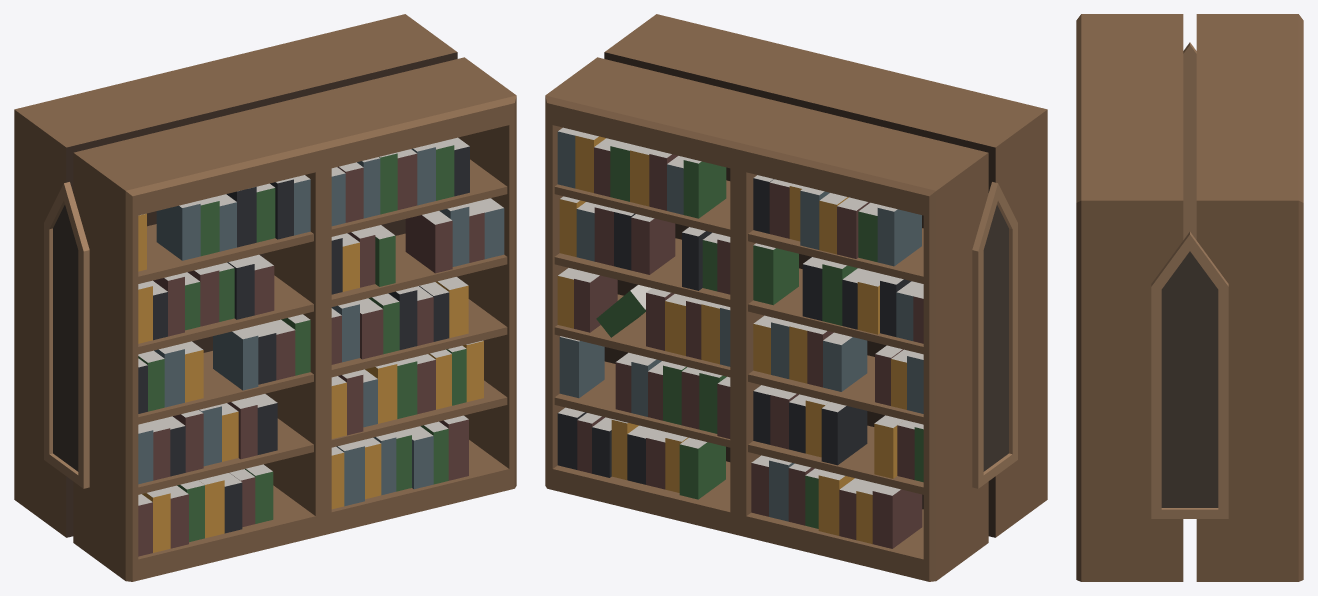
Rendered from reading-shelf-runtime.glb.
3 renders of one model, left to right at view 1: azimuth 30°, elevation 25°; view 2: azimuth 150°, elevation 25°; view 3: azimuth 270°, elevation 25°, orthographic. The views are drawn at different scales.
Visible parts, largest first — view 1: stack-cases; view 2: stack-cases; view 3: stack-cases.
Part boxes in pixels (x1=…): stack-cases: x1=14, y1=14, x2=516, y2=581; stack-cases: x1=545, y1=14, x2=1047, y2=581; stack-cases: x1=1076, y1=14, x2=1303, y2=581.
Size of the model in its own units: 2 by 1.85 by 1.
